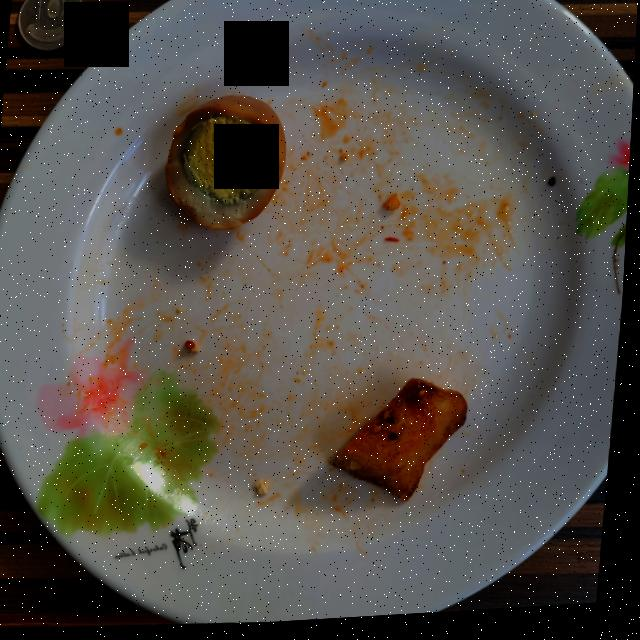coin: (17, 0, 84, 51)
fried potato: (339, 384, 471, 506)
soy egg: (167, 99, 287, 232)
